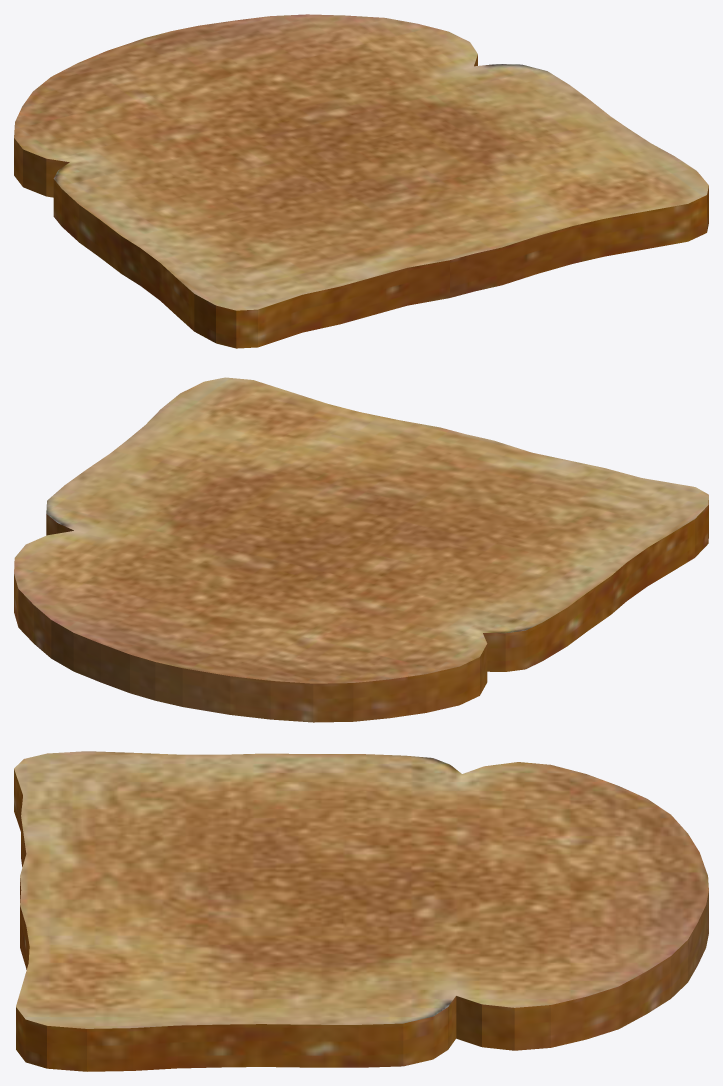
The model's file is toast.obj.
3 renders of one model, top to bottom at view 1: azimuth 30°, elevation 25°; view 2: azimuth 150°, elevation 25°; view 3: azimuth 270°, elevation 25°, orthographic. The views are drawn at different scales.
Bounding box in the file's own units: 9.78 × 0.7039 × 10.34.
